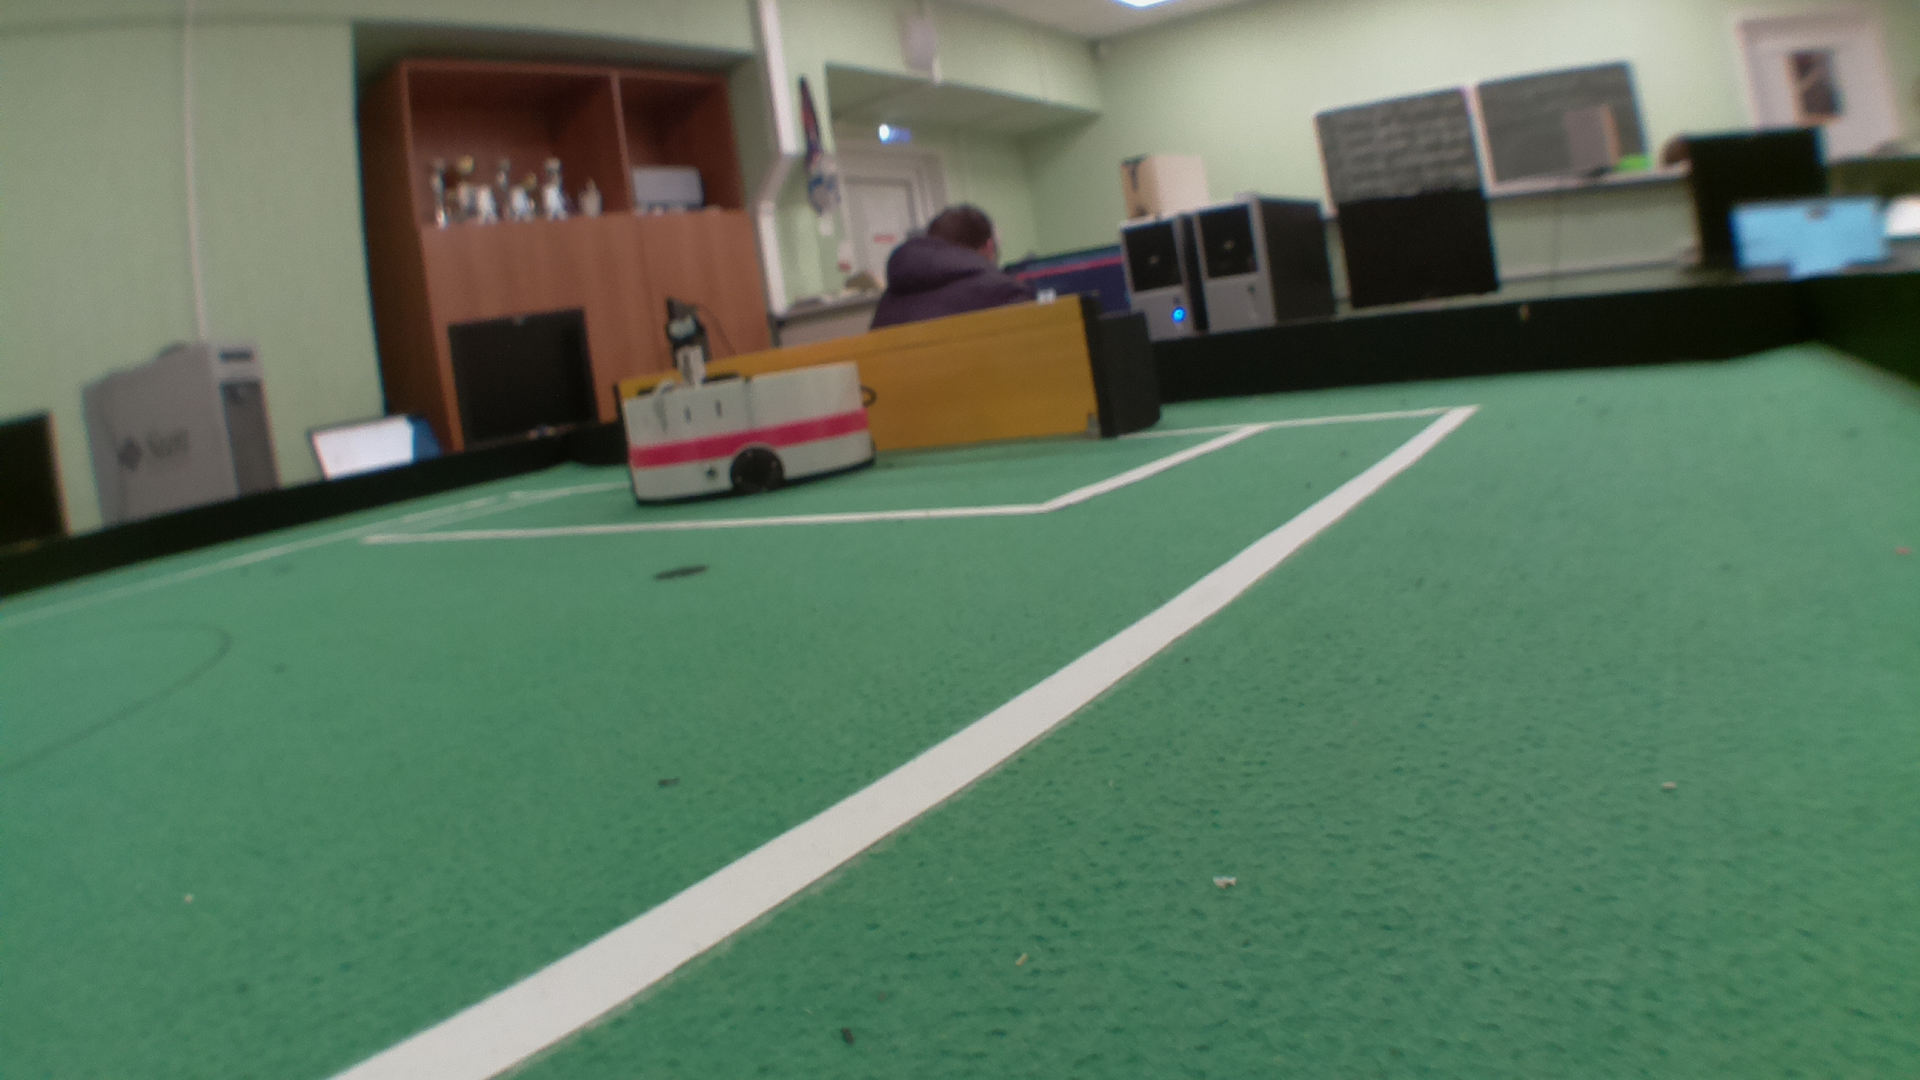YellowGoal: (811, 294, 1087, 448)
